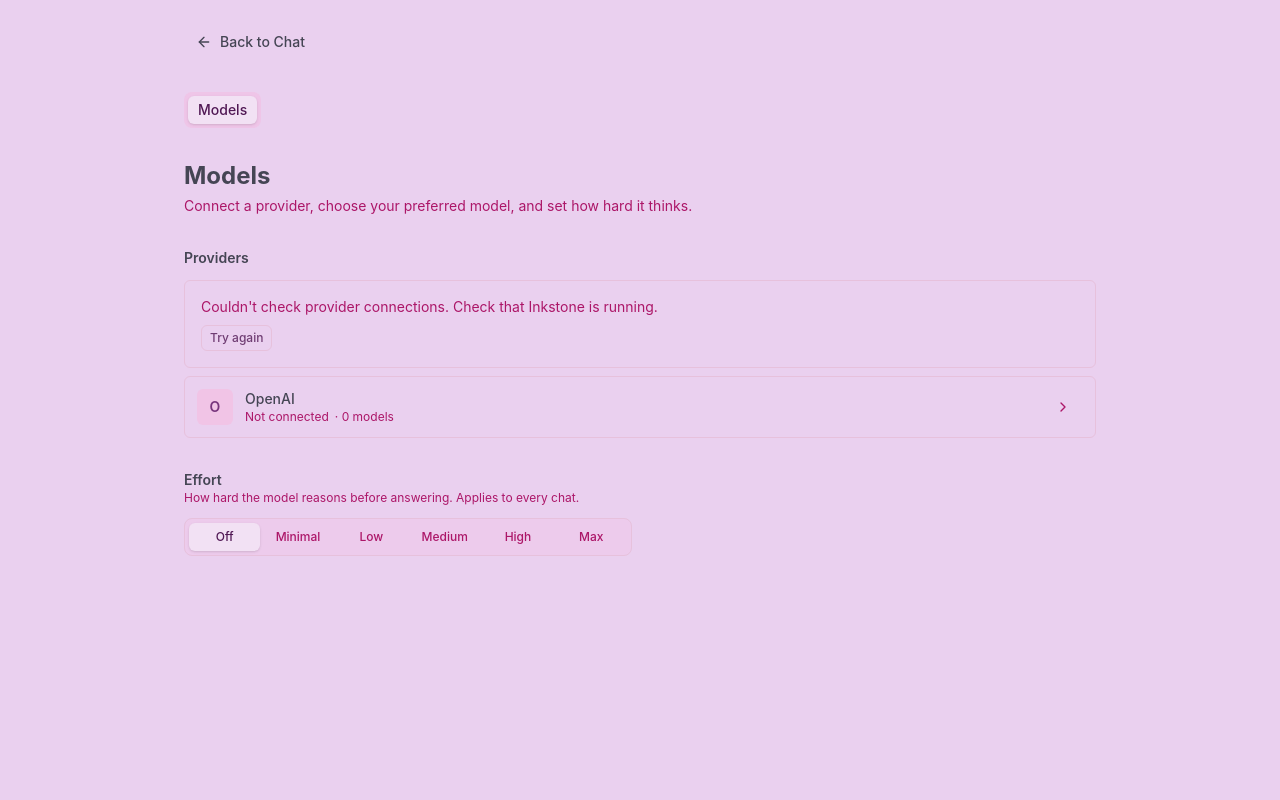
Models settings page (ADR-0024) › recovers from a provider/status failure: 'Try again' re-reads status, clears the banner, and reveals the real Connect affordance
Expected: the text "Couldn't check provider connections" is shown, top-left (201, 298), bottom-right (658, 315)
Click the button "Try again": (237, 338) top-left (201, 325), bottom-right (272, 351)
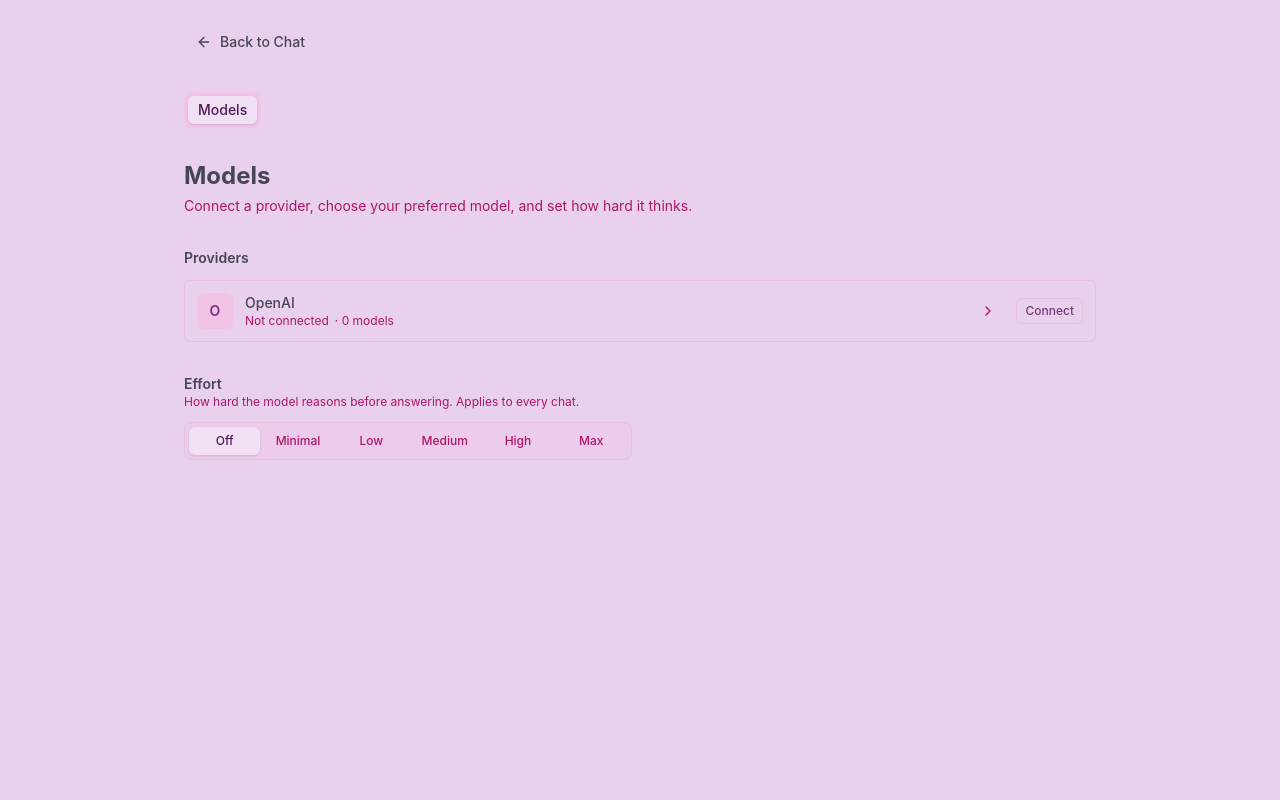
Result: the button "Connect" is shown at top-left (1016, 298), bottom-right (1083, 324)
Result: the text "Couldn't check provider connections" is gone
